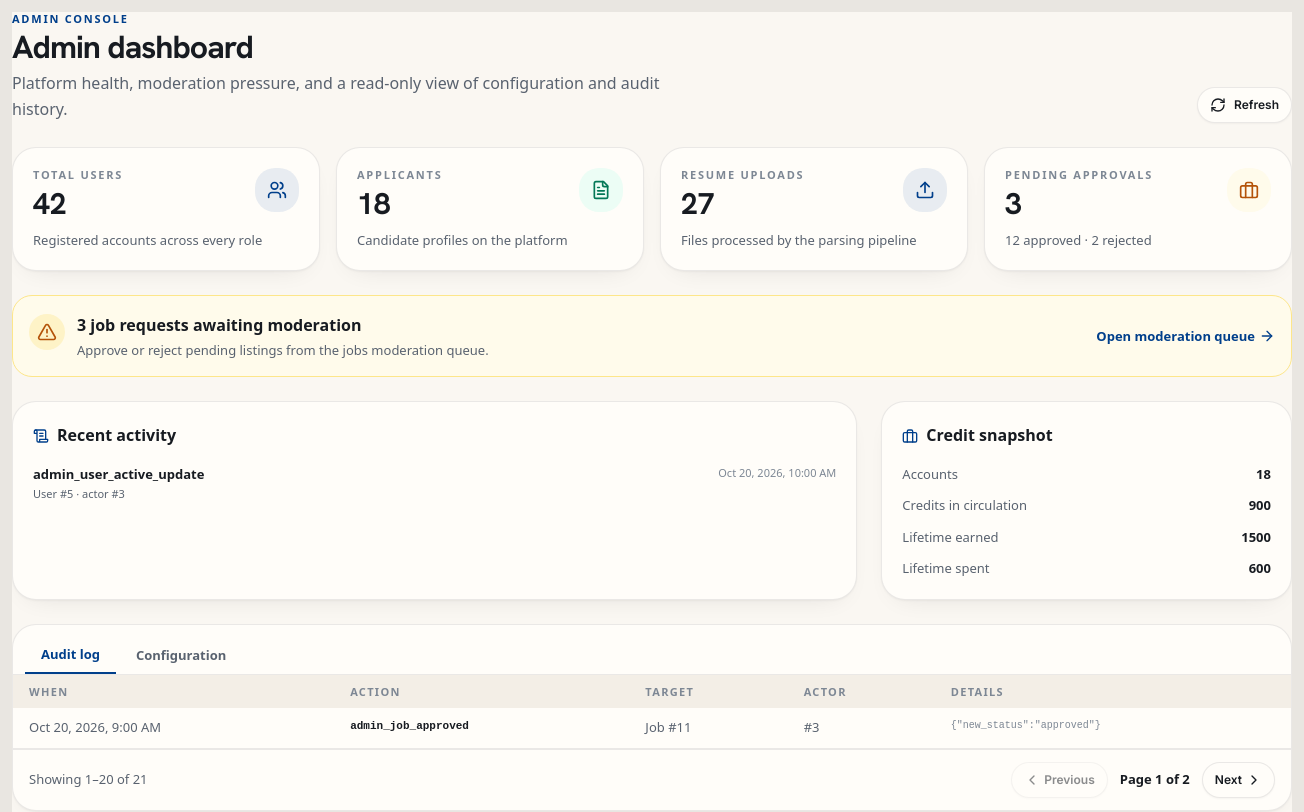
Scenario: AdminDashboardPage › pages the audit log with skip/limit
Expected: the text "admin_job_approved" is shown, [334,708,629,748]
What coordinates should you click on to do the following:
click the button "Next"
I would click on:
 (1238, 780)
Its box is [1202,762,1275,798].
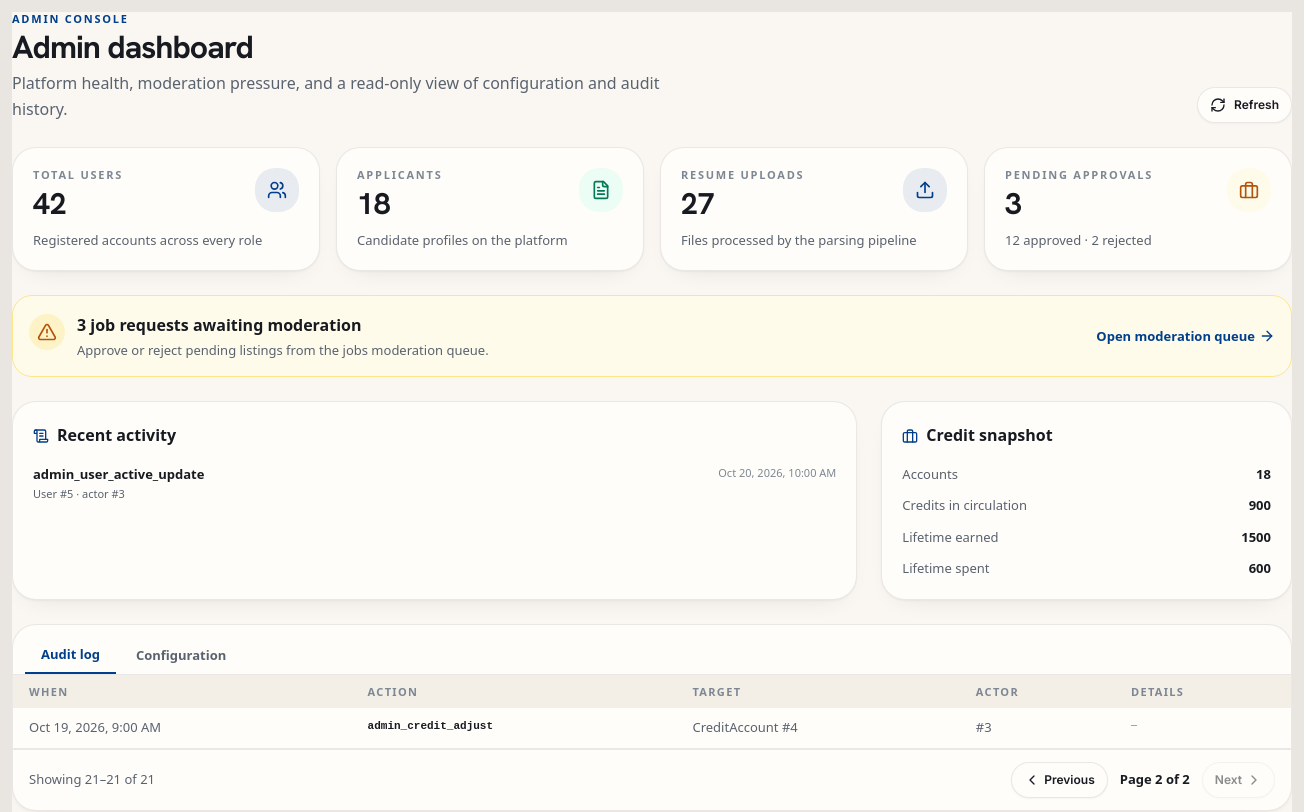
Expected: the text "admin_credit_adjust" is shown, [352,708,676,748]
Expected: the text "Page 2 of 2" is shown, [1116,770,1194,790]
